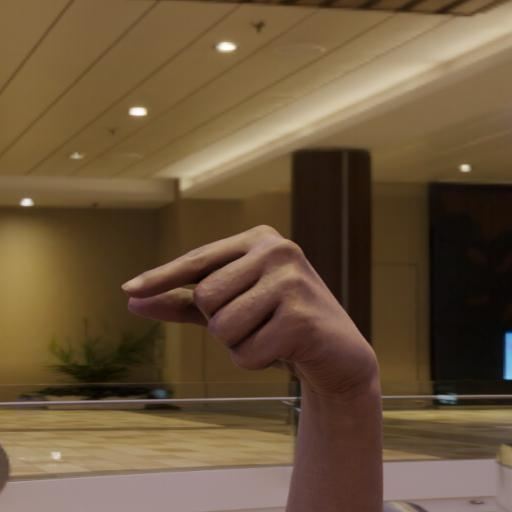G: (114, 217, 402, 419)
